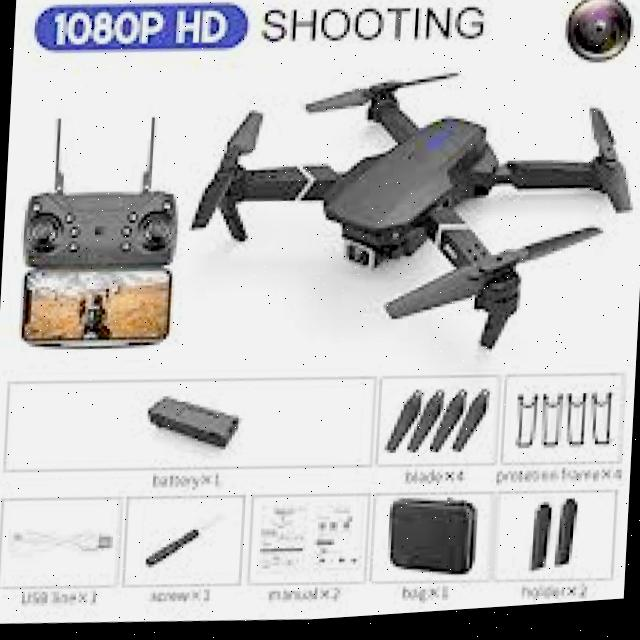drone: (176, 50, 640, 388)
